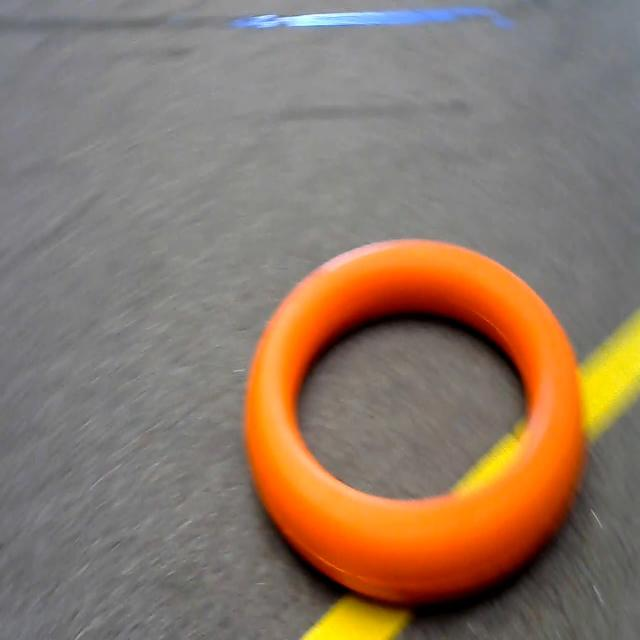note: (236, 216, 612, 596)
